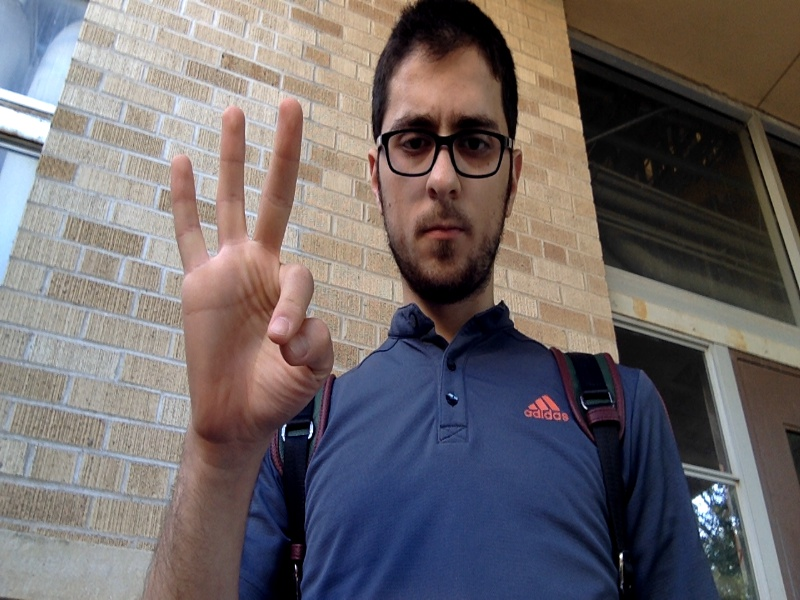3-hand: (169, 103, 332, 458)
